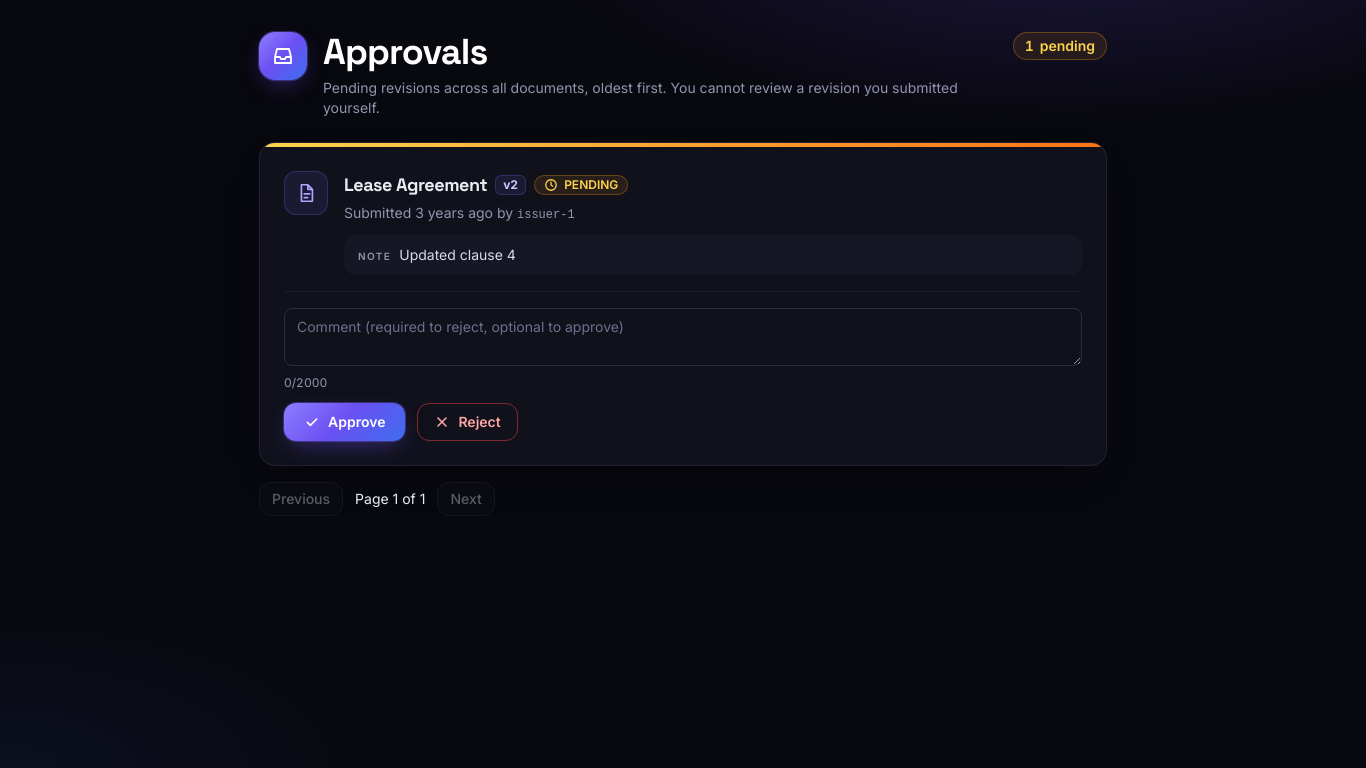
Test: ApprovalsQueue › rejects with a required comment and shows a confirmation
In the text box named "comment for revision 2": [683, 337] box [284, 308, 1082, 366], type "not acceptable"
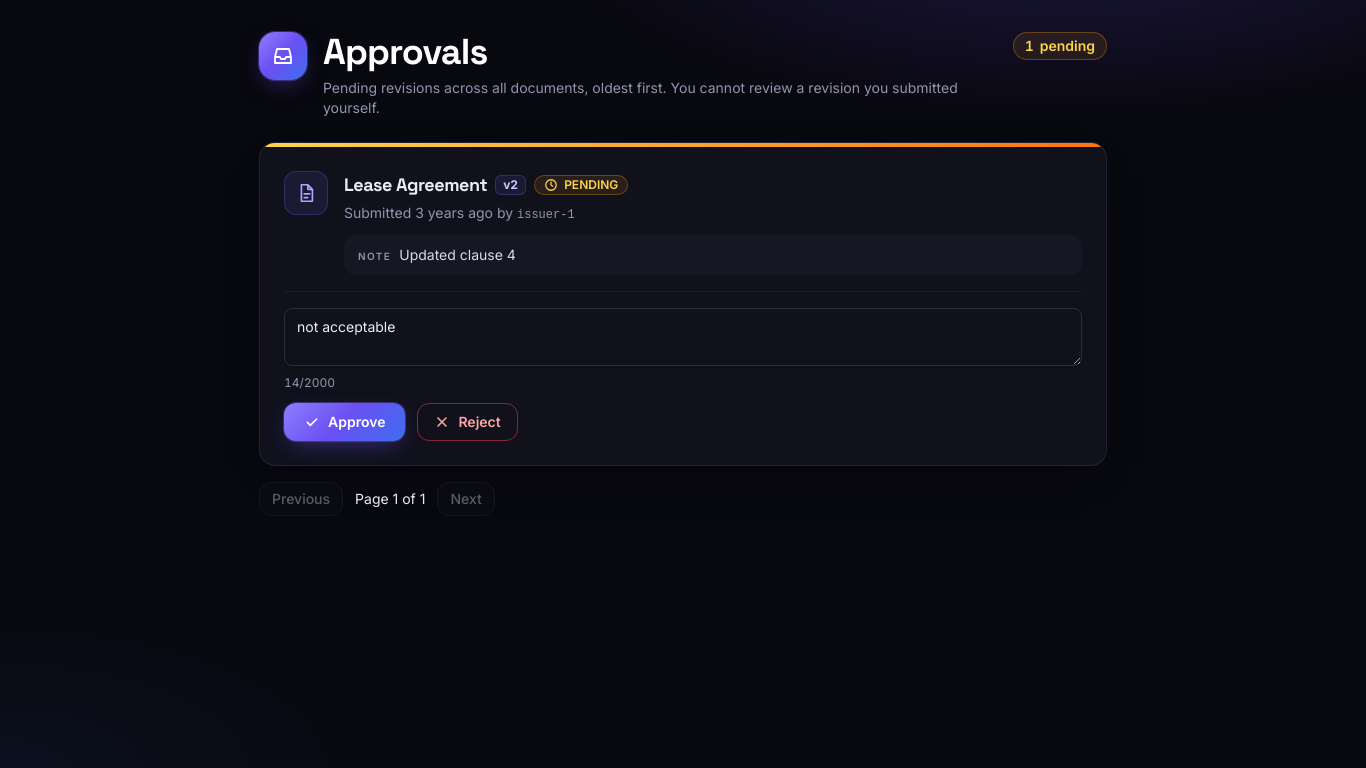
Click the button "Reject": [468, 422] box [417, 403, 518, 441]
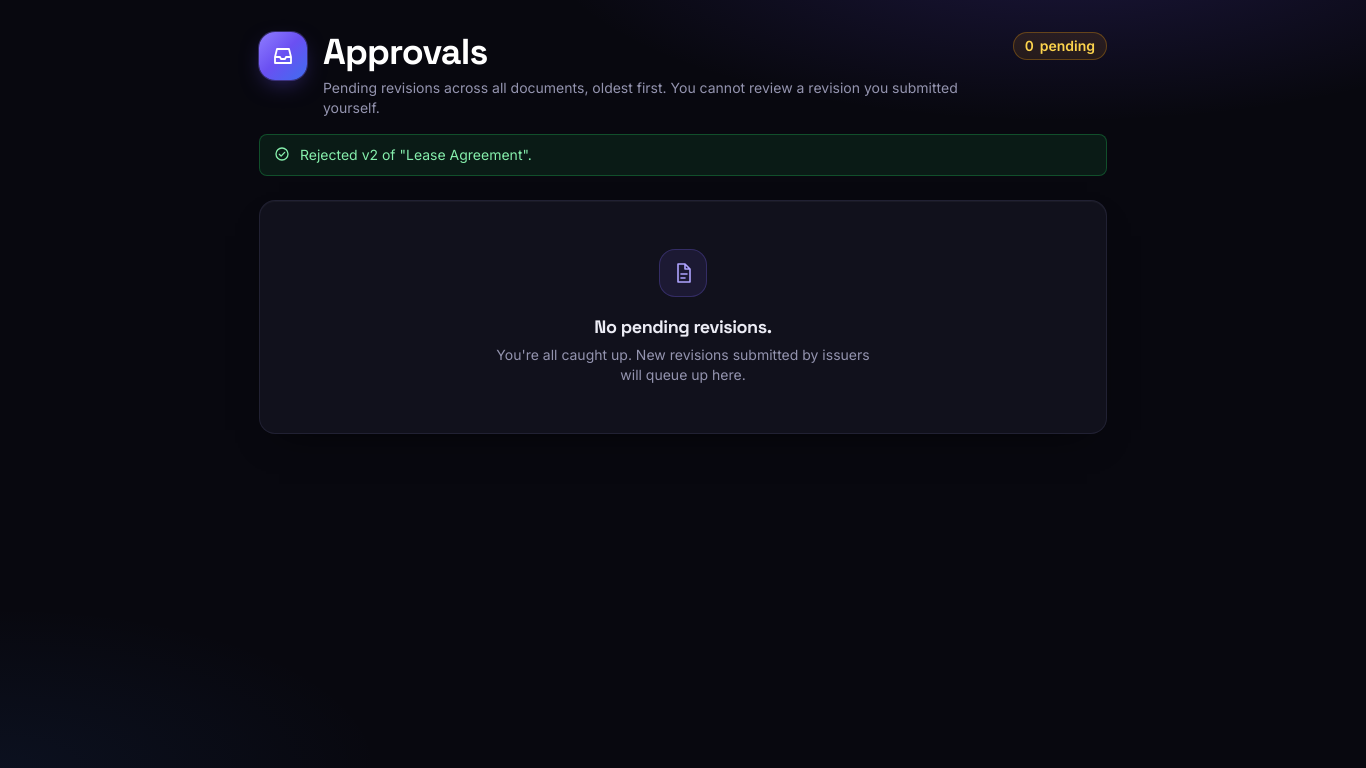
Check: the text "Rejected v2 of \"Lease Agreement\"." is shown, box [300, 145, 532, 165]
